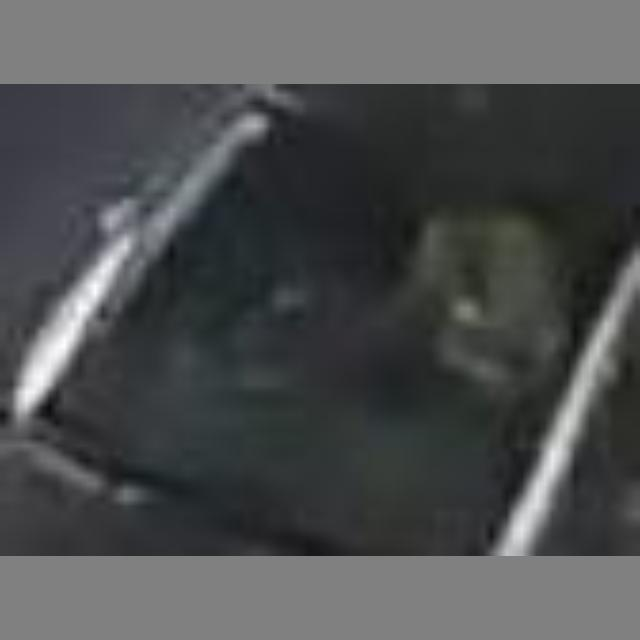pakai: (343, 130, 594, 404)
